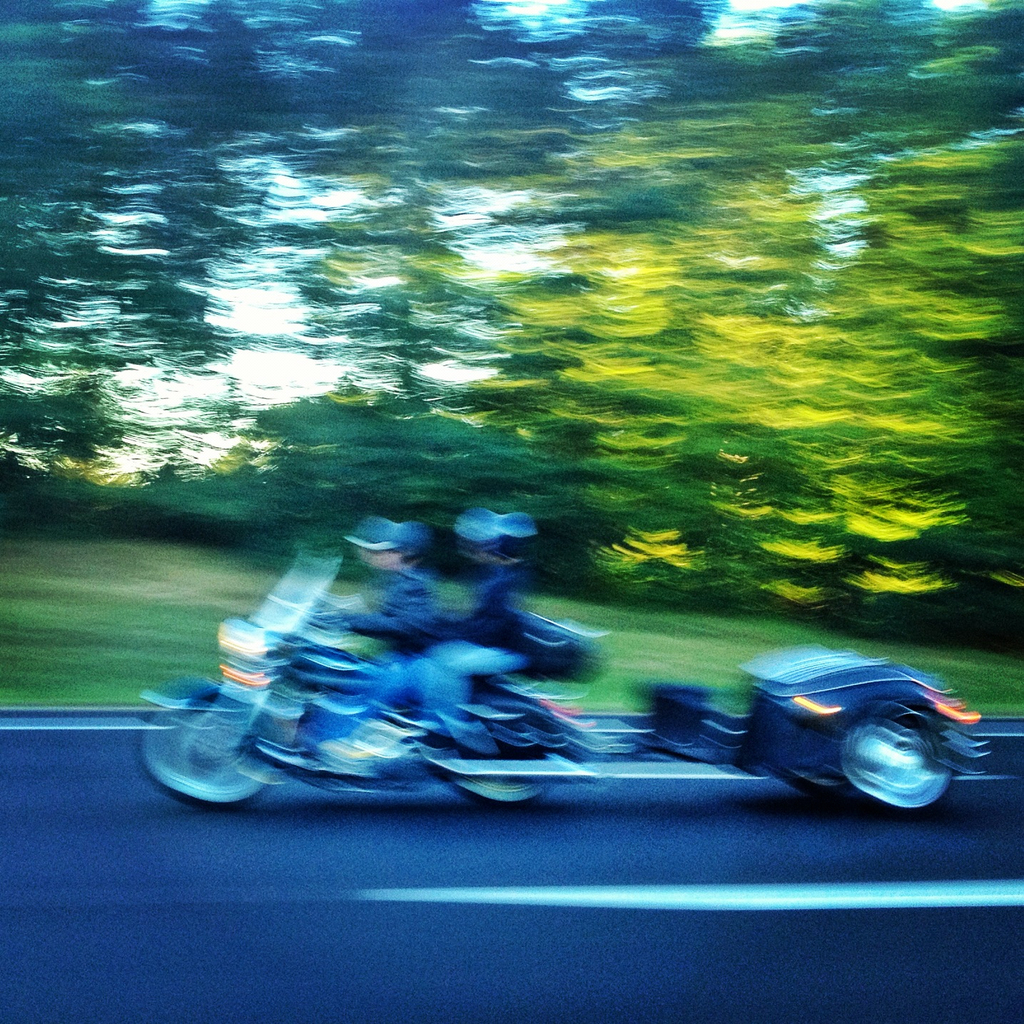Motorcycle: (102, 606, 937, 846)
